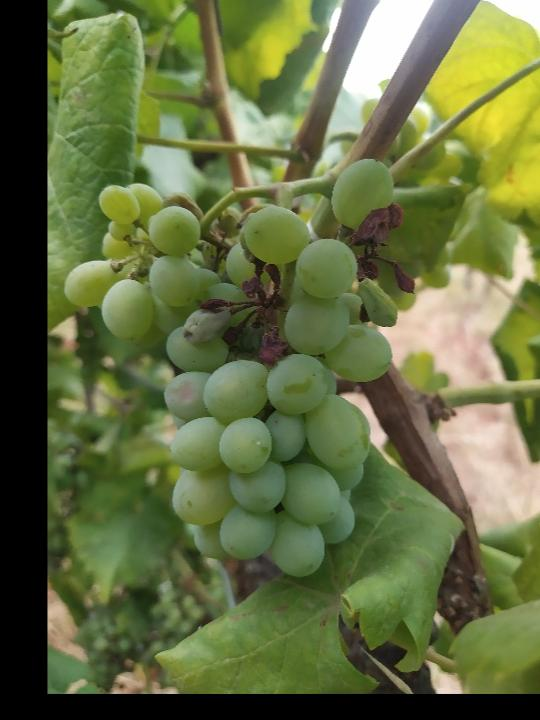grape: (61, 156, 418, 580)
